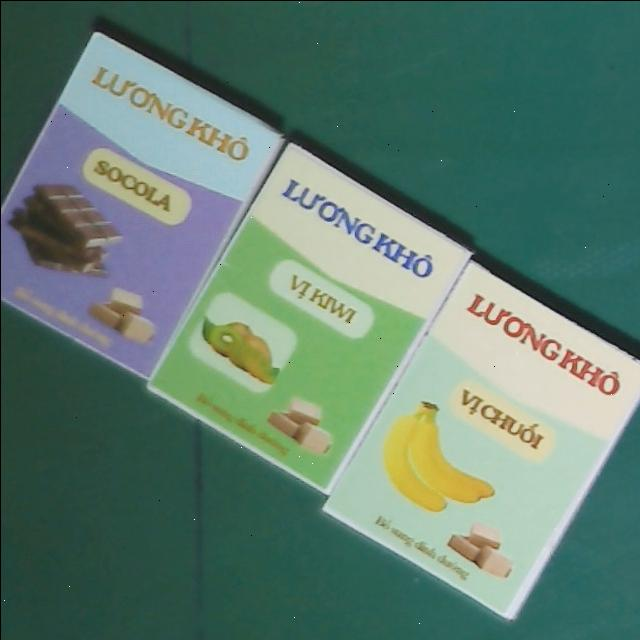kiwi: (143, 141, 472, 493)
socola: (0, 29, 286, 381)
